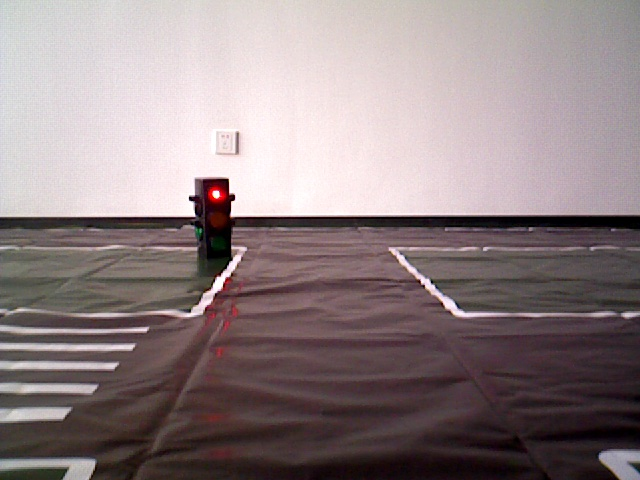red: (197, 180, 231, 261)
